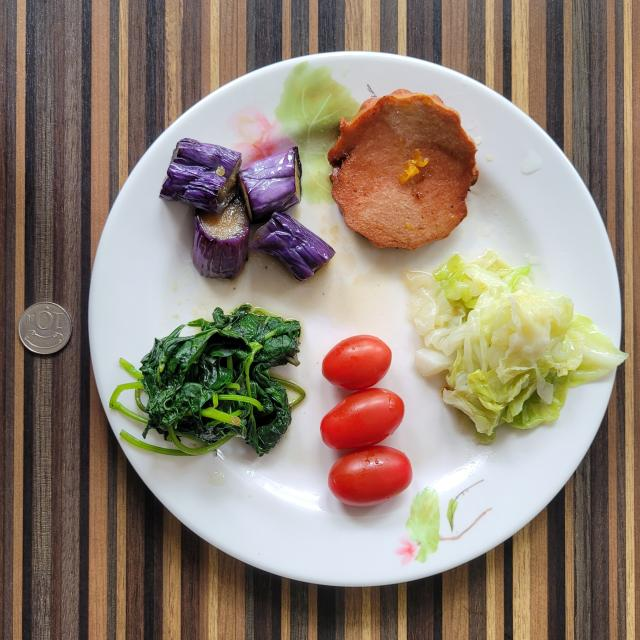Spam: (328, 89, 479, 250)
cabbage: (405, 250, 626, 441)
coin: (19, 301, 72, 354)
sweet potato leaves: (109, 305, 305, 456)
